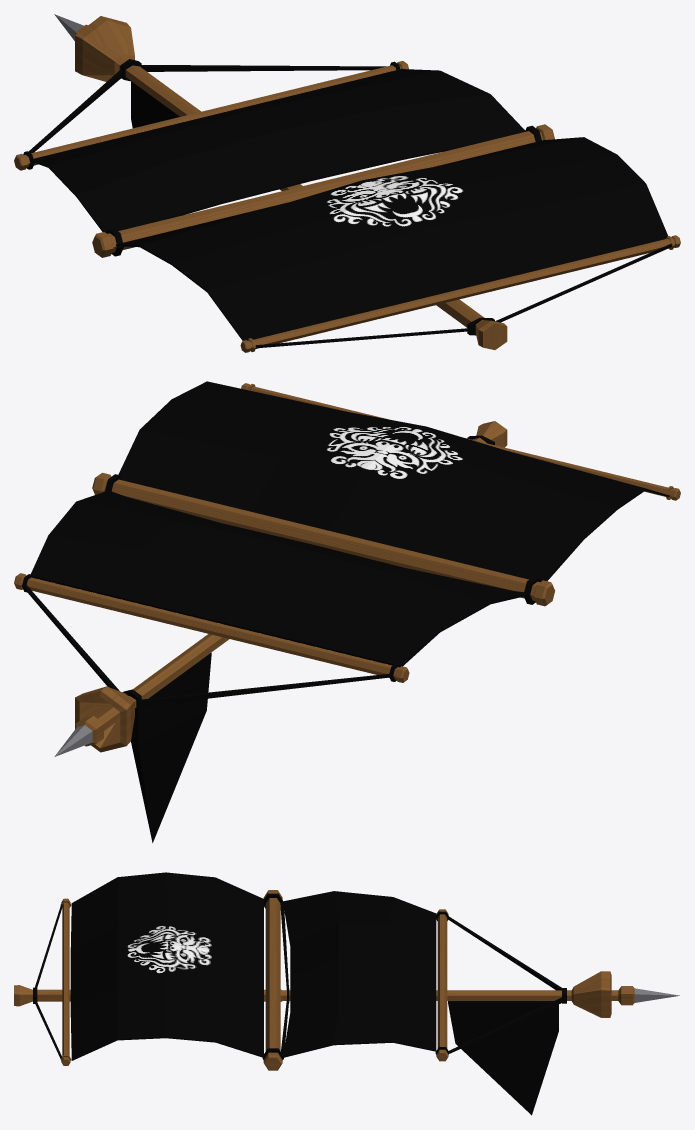
The model's file is sail_a_17.fbx.
3 renders of one model, top to bottom at view 1: azimuth 30°, elevation 25°; view 2: azimuth 150°, elevation 25°; view 3: azimuth 270°, elevation 25°, orthographic. The views are drawn at different scales.
Parts seen in each view (by area): view 1: Cube.071; view 2: Cube.071; view 3: Cube.071.
Part boxes in pixels (<box>): Cube.071: <box>14,14,680,352</box>; Cube.071: <box>14,381,680,842</box>; Cube.071: <box>14,872,679,1115</box>.
Bounding box in the file's own units: 188 × 89.6 × 317.
